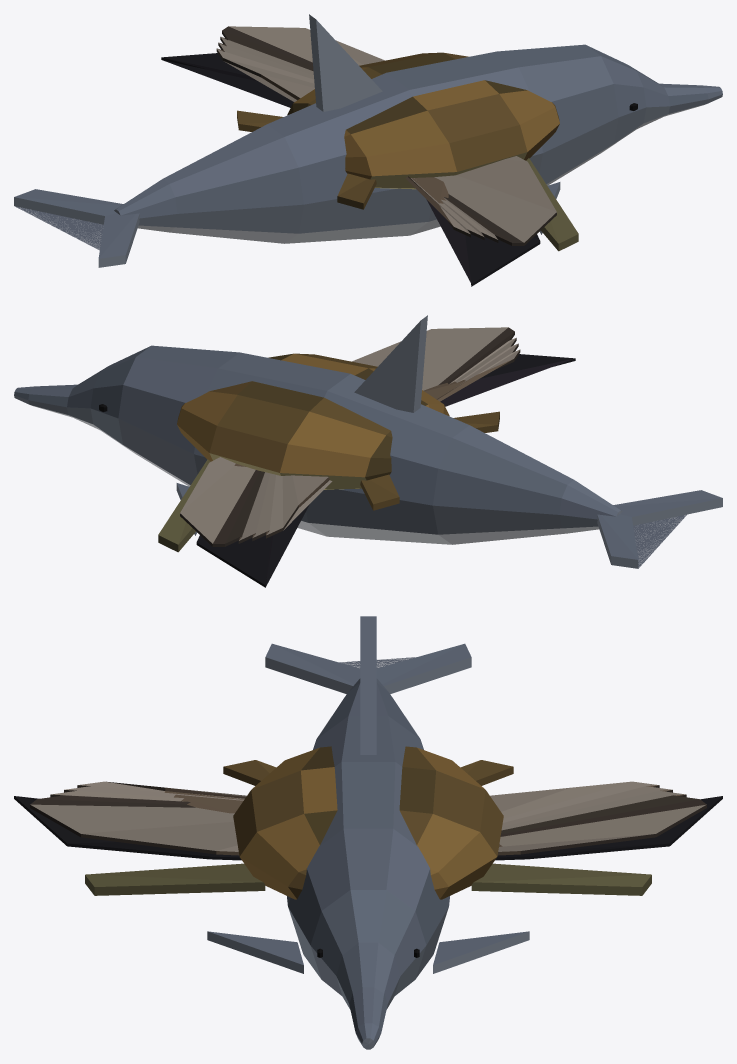
The model's file is animals.glb.
The picture shows the model from 3 angles, top to bottom: view 1: azimuth 30°, elevation 25°; view 2: azimuth 150°, elevation 25°; view 3: azimuth 270°, elevation 25°; orthographic projection. The views are drawn at different scales.
Visible parts, largest first — view 1: ANIMAL_dolphin, ANIMAL_turtle, ANIMAL_pelican, ANIMAL_frigatebird; view 2: ANIMAL_dolphin, ANIMAL_turtle, ANIMAL_pelican, ANIMAL_frigatebird; view 3: ANIMAL_dolphin, ANIMAL_turtle, ANIMAL_pelican, ANIMAL_frigatebird.
Boxes of the visible parts, x1,y1,x2,y2 form: ANIMAL_dolphin: (14, 14, 722, 267); ANIMAL_turtle: (237, 52, 578, 251); ANIMAL_pelican: (216, 26, 556, 245); ANIMAL_frigatebird: (161, 53, 540, 286); ANIMAL_dolphin: (14, 315, 722, 568); ANIMAL_turtle: (158, 353, 499, 552); ANIMAL_pelican: (180, 327, 520, 546); ANIMAL_frigatebird: (196, 354, 575, 587); ANIMAL_dolphin: (207, 616, 529, 1049); ANIMAL_turtle: (85, 746, 651, 899); ANIMAL_pelican: (30, 781, 706, 855); ANIMAL_frigatebird: (14, 796, 722, 860).
Bounding box in the file's own units: 2.72 × 0.9053 × 2.2.
